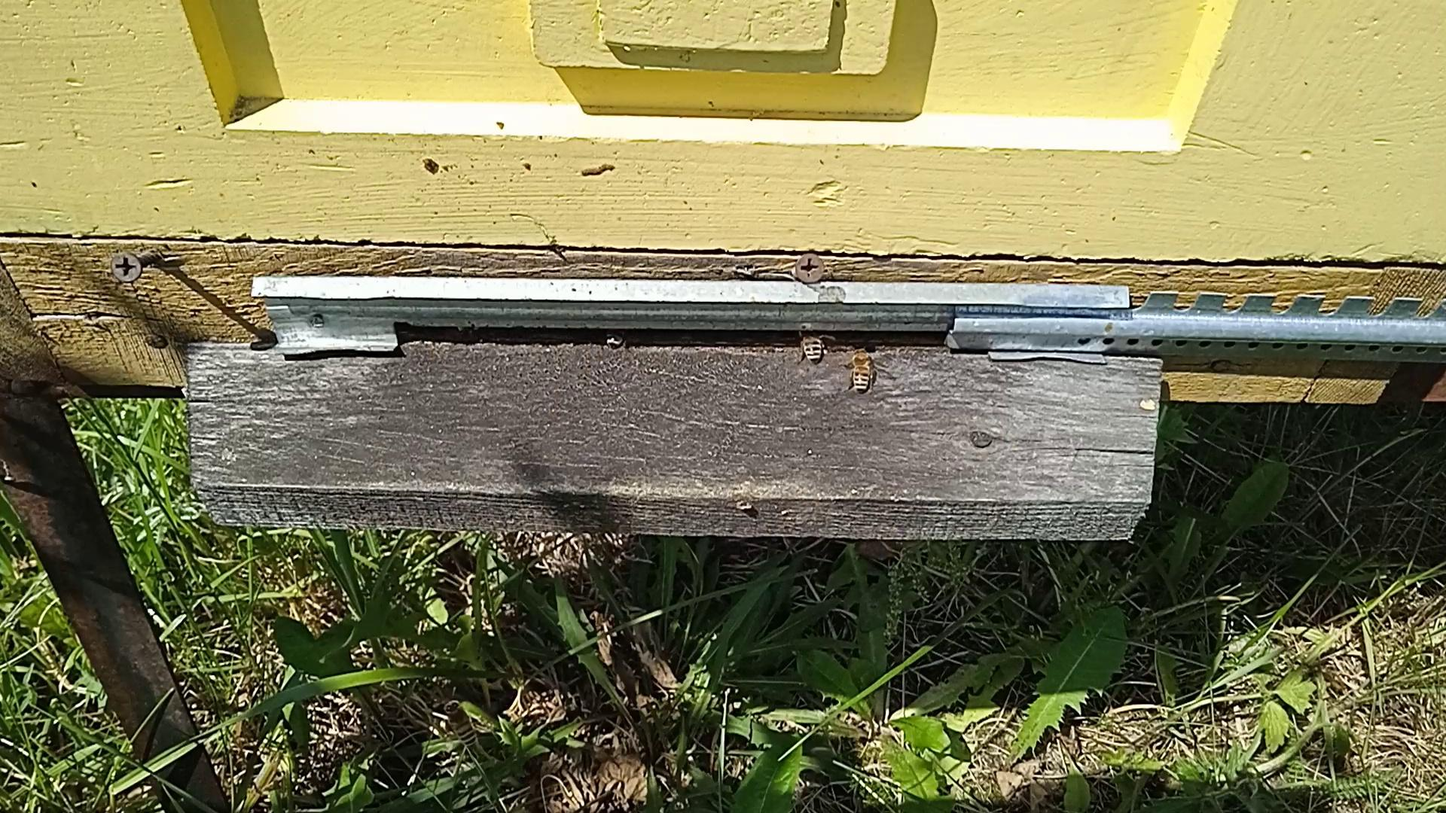worker-bee: (442, 699, 477, 746), (847, 346, 876, 395), (796, 327, 827, 364), (1235, 769, 1258, 798), (602, 330, 630, 350)
